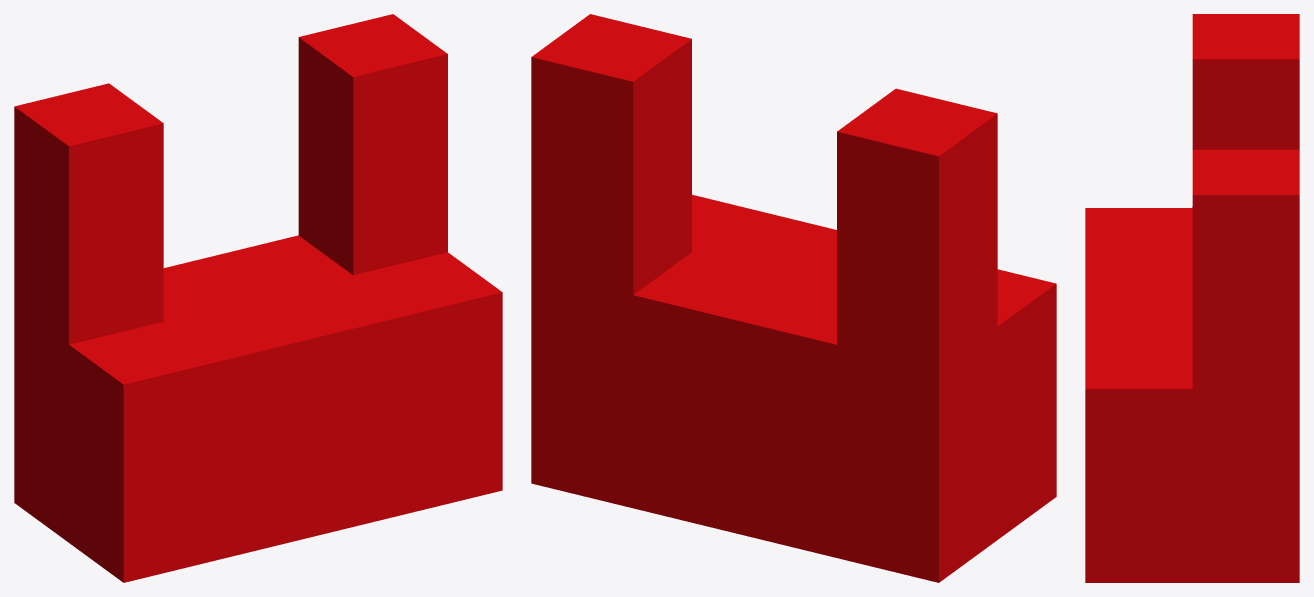
File: Red_Obstacle.fbx
3 views of the same model, side by side, from view 1: azimuth 30°, elevation 25°; view 2: azimuth 150°, elevation 25°; view 3: azimuth 270°, elevation 25° (orthographic). The views are drawn at different scales.
Visible parts, largest first — view 1: Cube; view 2: Cube; view 3: Cube.
Boxes of the visible parts, box(x1,y1,x2,y2) form: Cube: box(14, 14, 502, 582); Cube: box(531, 14, 1056, 582); Cube: box(1085, 14, 1299, 582).
Size of the model in its own units: 400 by 400 by 200.
